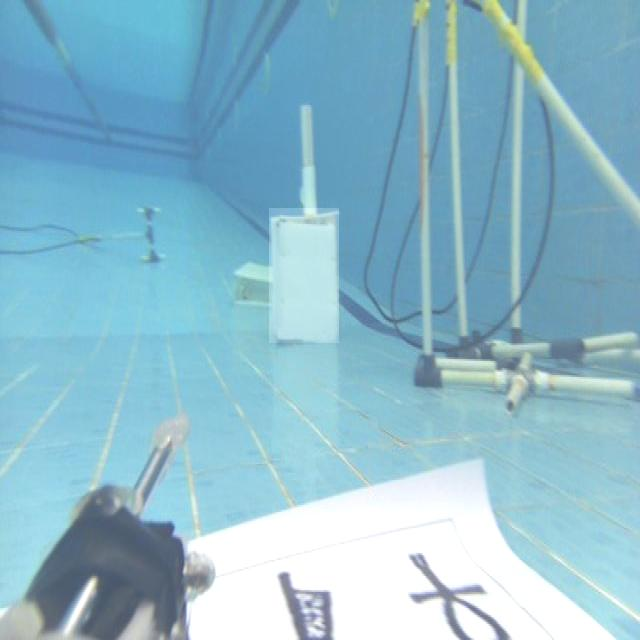Cube: (269, 208, 339, 343)
